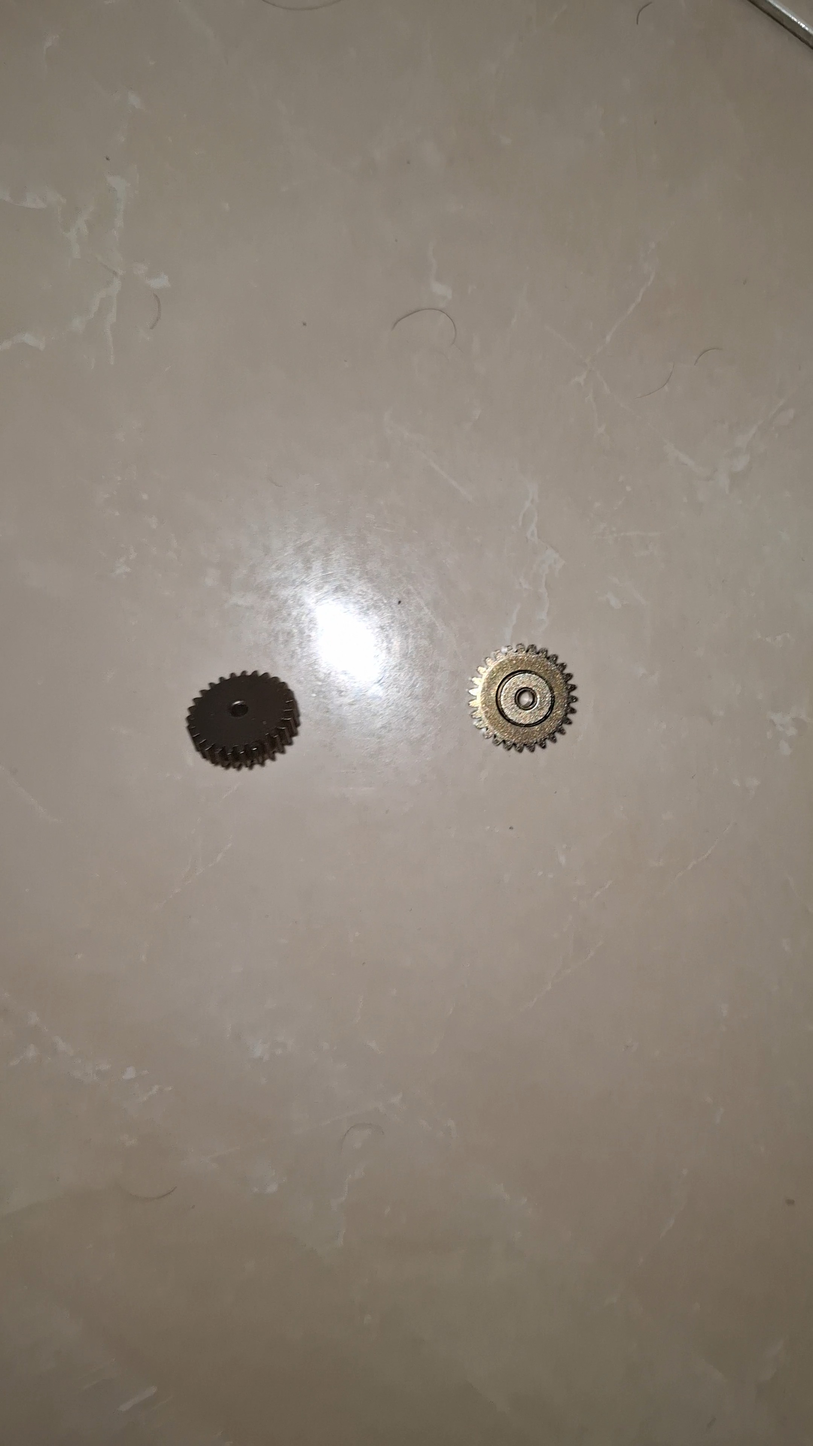spur gear: (470, 644, 576, 751), (187, 671, 298, 767)
